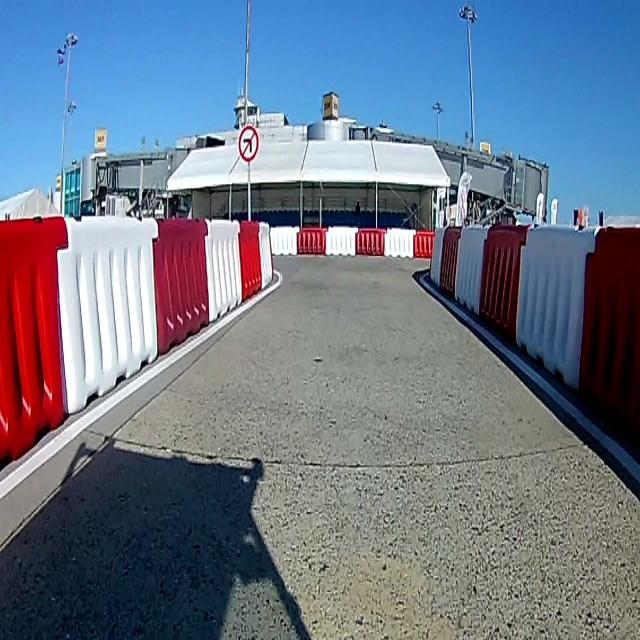soladonulmez: (238, 126, 258, 160)
